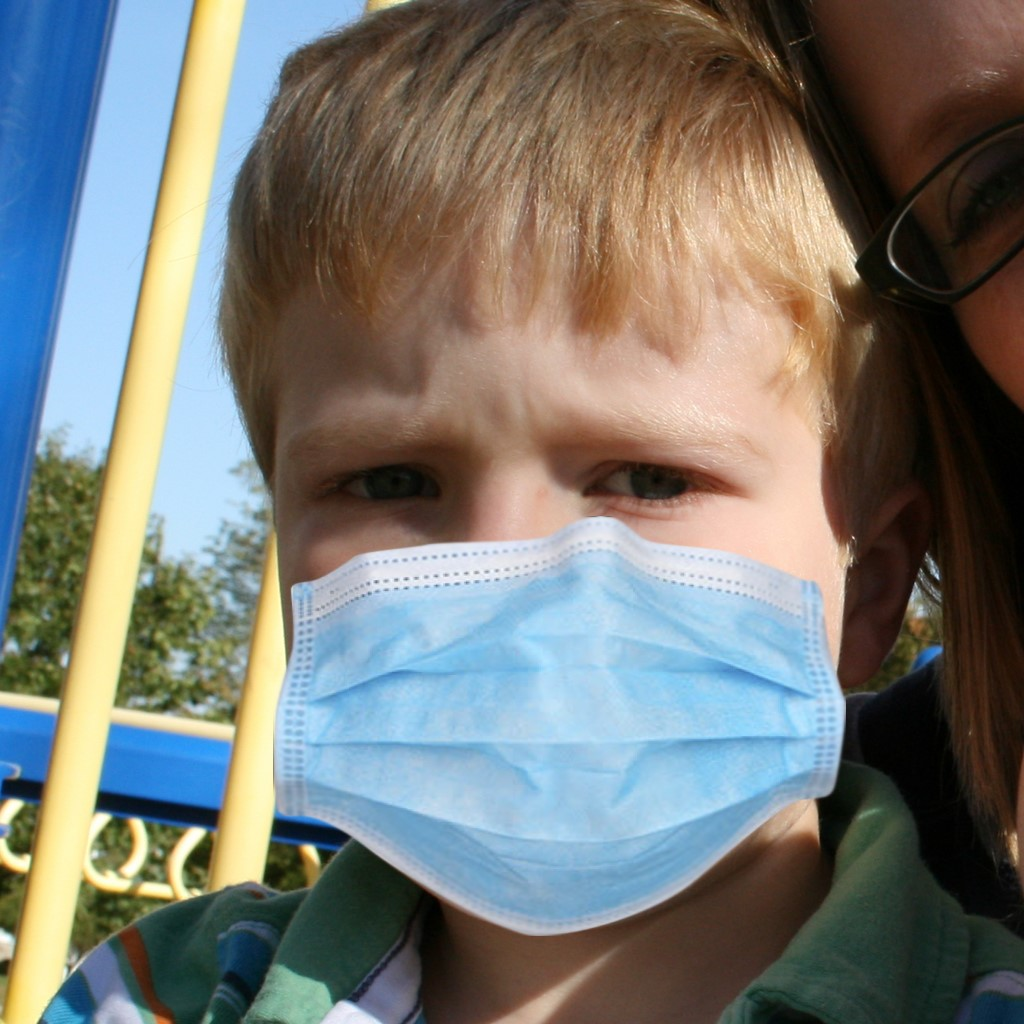con_mascara: (221, 54, 855, 925)
